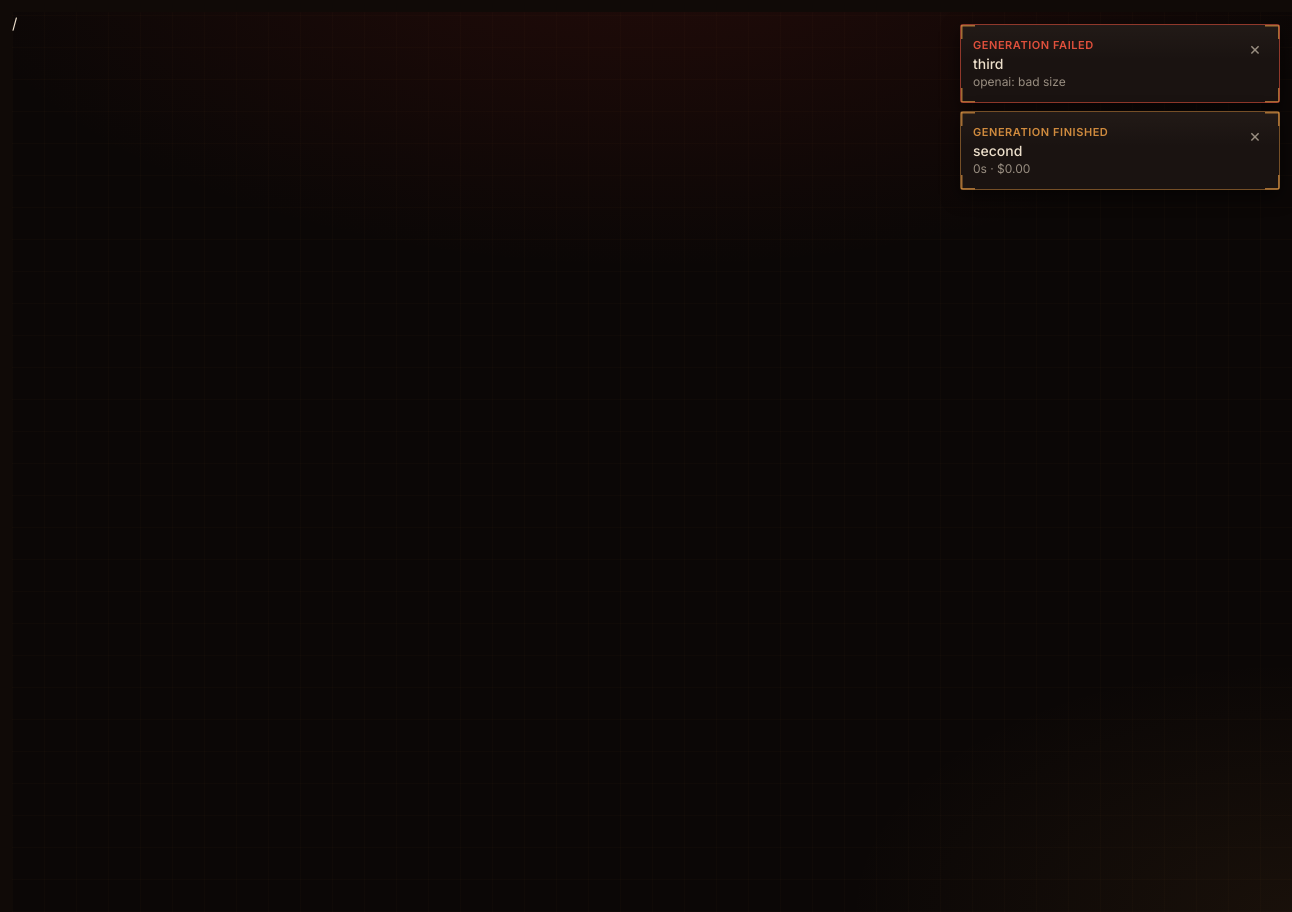
Test: what was already finished when the app opened is not announced; notices stack and the cross closes one
Expected: the number of messages is 2, [960,24,1280,103]; [960,111,1280,190]
Expected: the text "openai: bad size" is shown, [973,74,1066,89]
Click the button named "Dismiss notification" at (1255, 49), box [1243,37,1267,61]
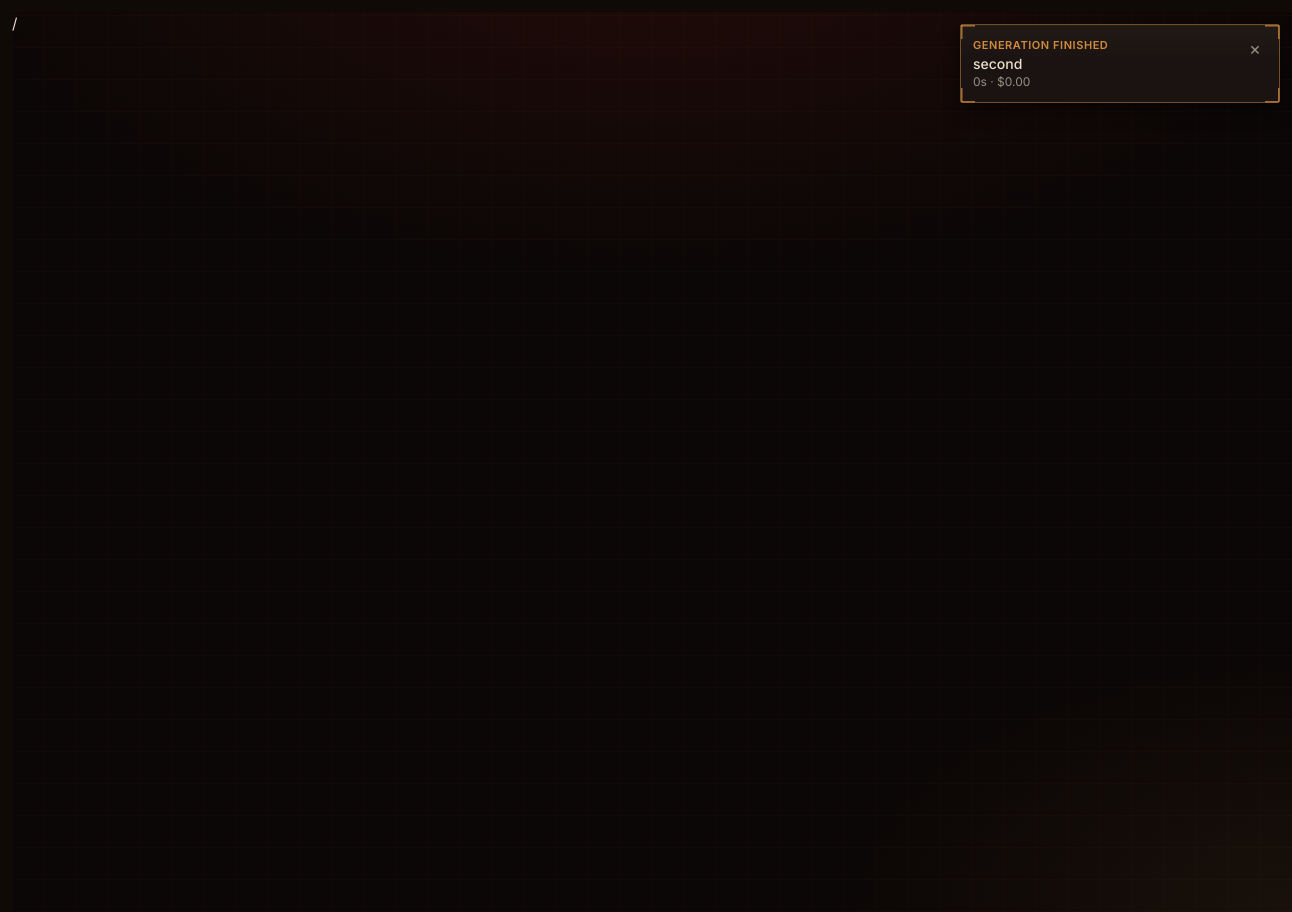
Expected: the number of messages is 1, [960,24,1280,103]
